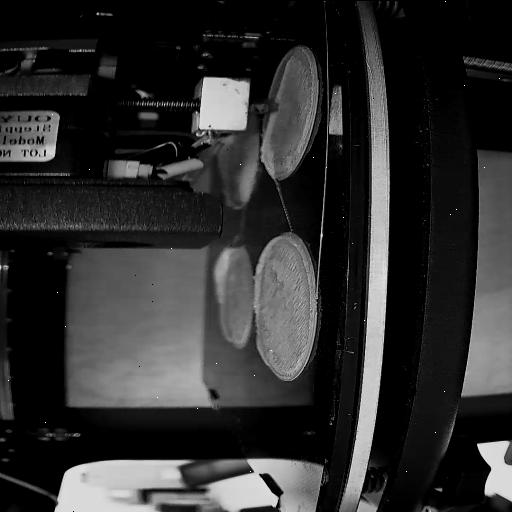over_extrusion: (250, 234, 314, 312), (210, 245, 238, 302), (258, 110, 278, 162), (272, 57, 294, 101), (252, 330, 274, 366), (216, 304, 235, 342)
